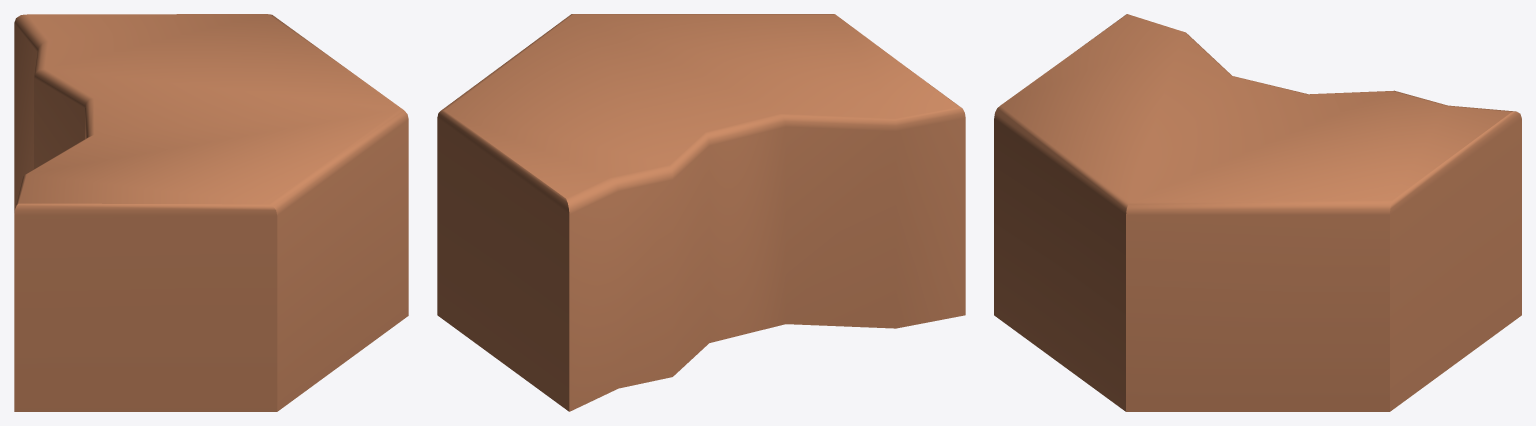
Rendered from hex_rock_waterD_empty.glb.
The picture shows the model from 3 angles, left to right: view 1: azimuth 30°, elevation 25°; view 2: azimuth 150°, elevation 25°; view 3: azimuth 270°, elevation 25°; orthographic projection.
Visible parts, largest first — view 1: hex_rock_waterD_empty; view 2: hex_rock_waterD_empty; view 3: hex_rock_waterD_empty.
Boxes of the visible parts, left/top/right/bottom form: hex_rock_waterD_empty: left=14, top=14, right=408, bottom=411; hex_rock_waterD_empty: left=437, top=14, right=965, bottom=411; hex_rock_waterD_empty: left=994, top=14, right=1521, bottom=411.
Bounding box in the file's own units: 3.82 × 1.91 × 4.41.
